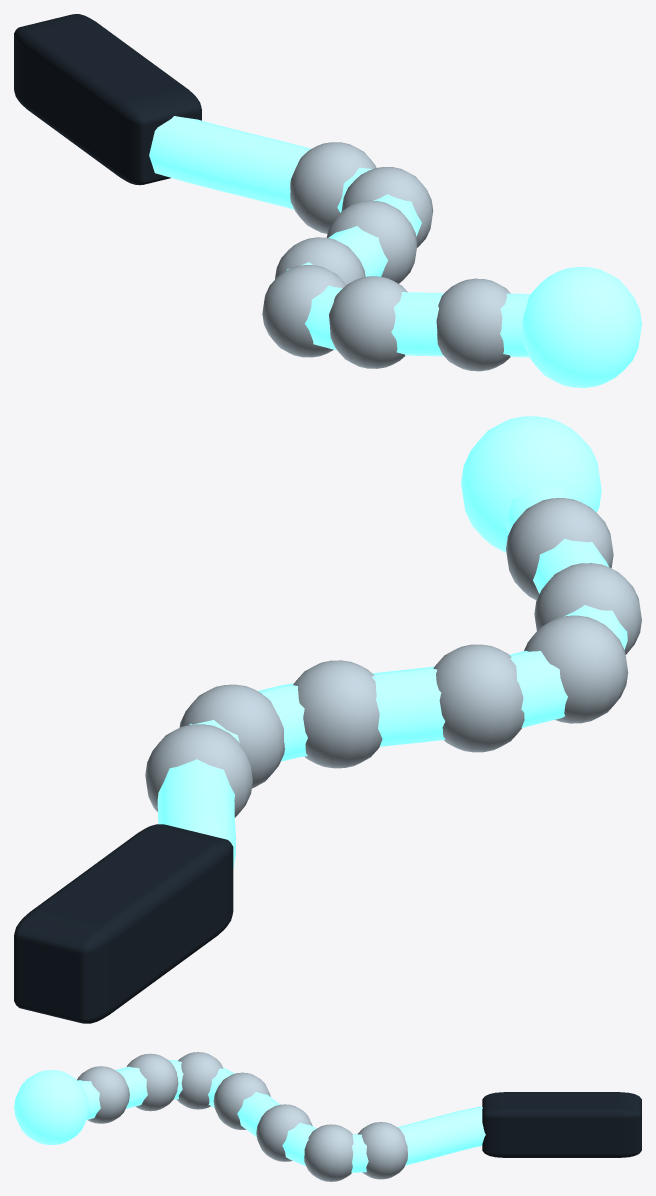
The model's file is whip-4.glb.
3 renders of one model, top to bottom at view 1: azimuth 30°, elevation 25°; view 2: azimuth 150°, elevation 25°; view 3: azimuth 270°, elevation 25°, orthographic. The views are drawn at different scales.
Size of the model in its own units: 0.4558 by 0.2573 by 1.5.
